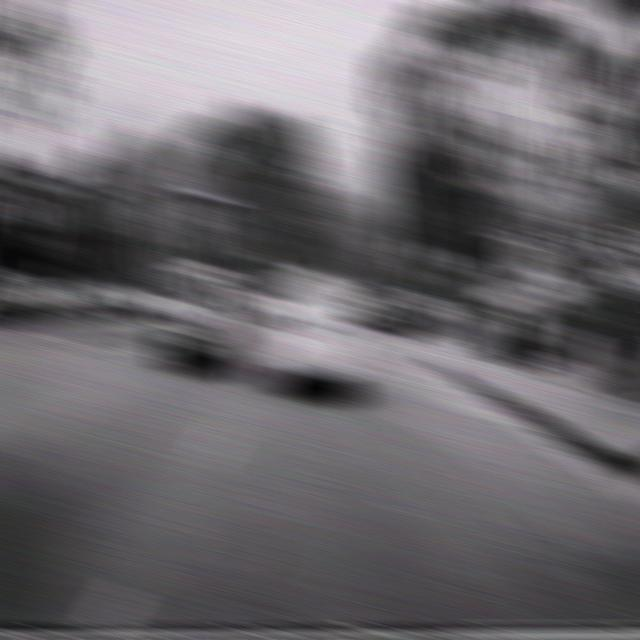stop_sign: (425, 243, 452, 272)
